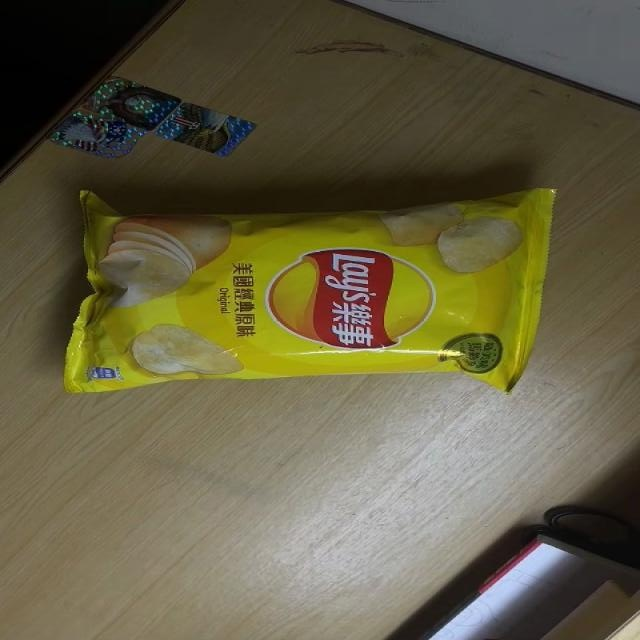Lay-s-original: (59, 186, 558, 394)
